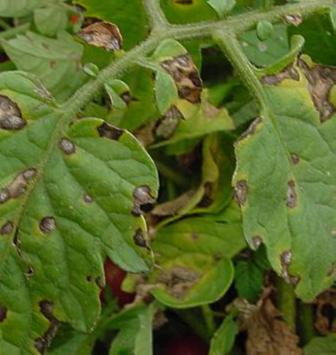Tomato Septoria leaf spot: (0, 54, 159, 355), (226, 33, 336, 307)
